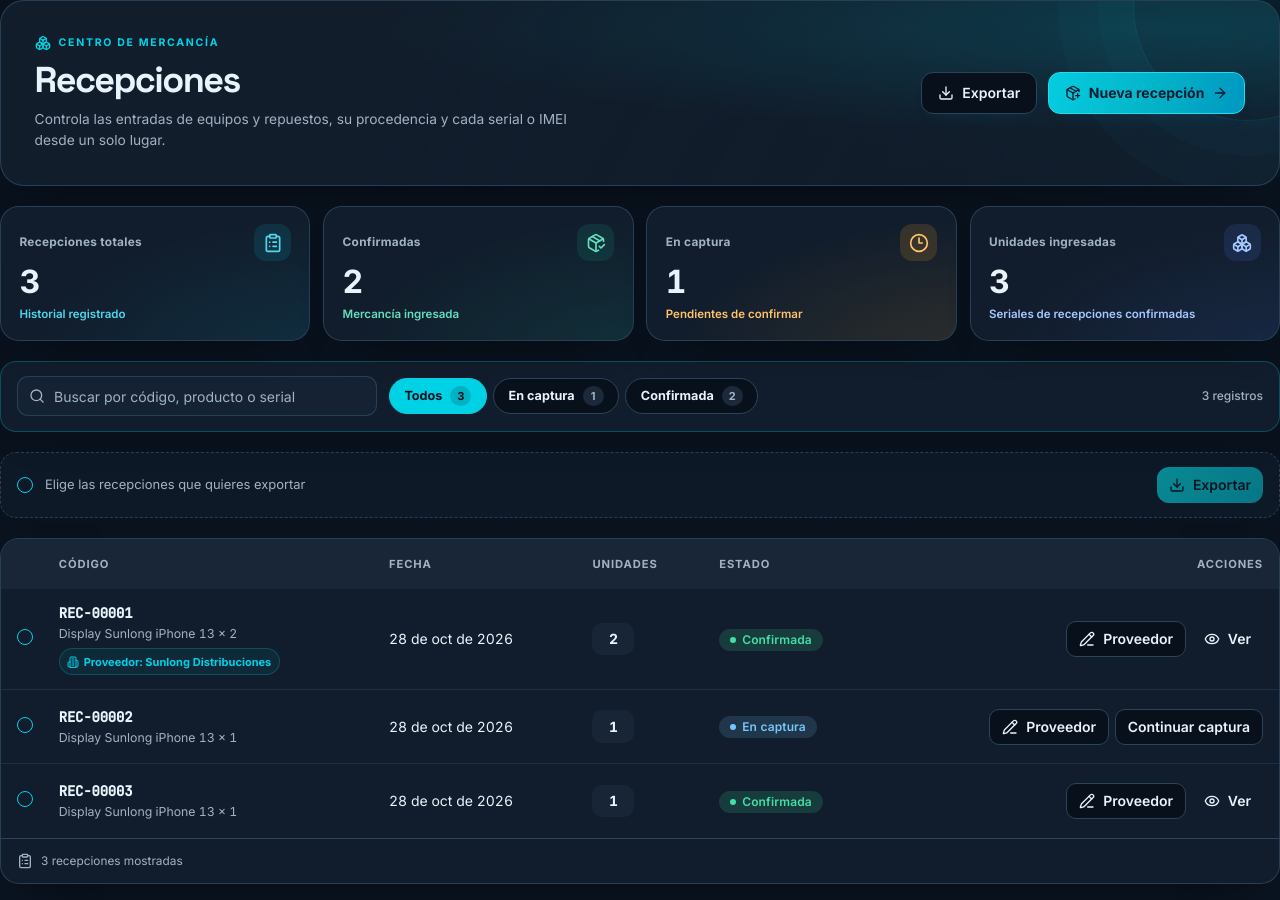
Recepciones premium · datos y acciones preservadas › conserva selección múltiple, diálogo de exportar y proveedor
Click the checkbox named "Elegir todas las visibles": (25, 485) [17,477,33,493]
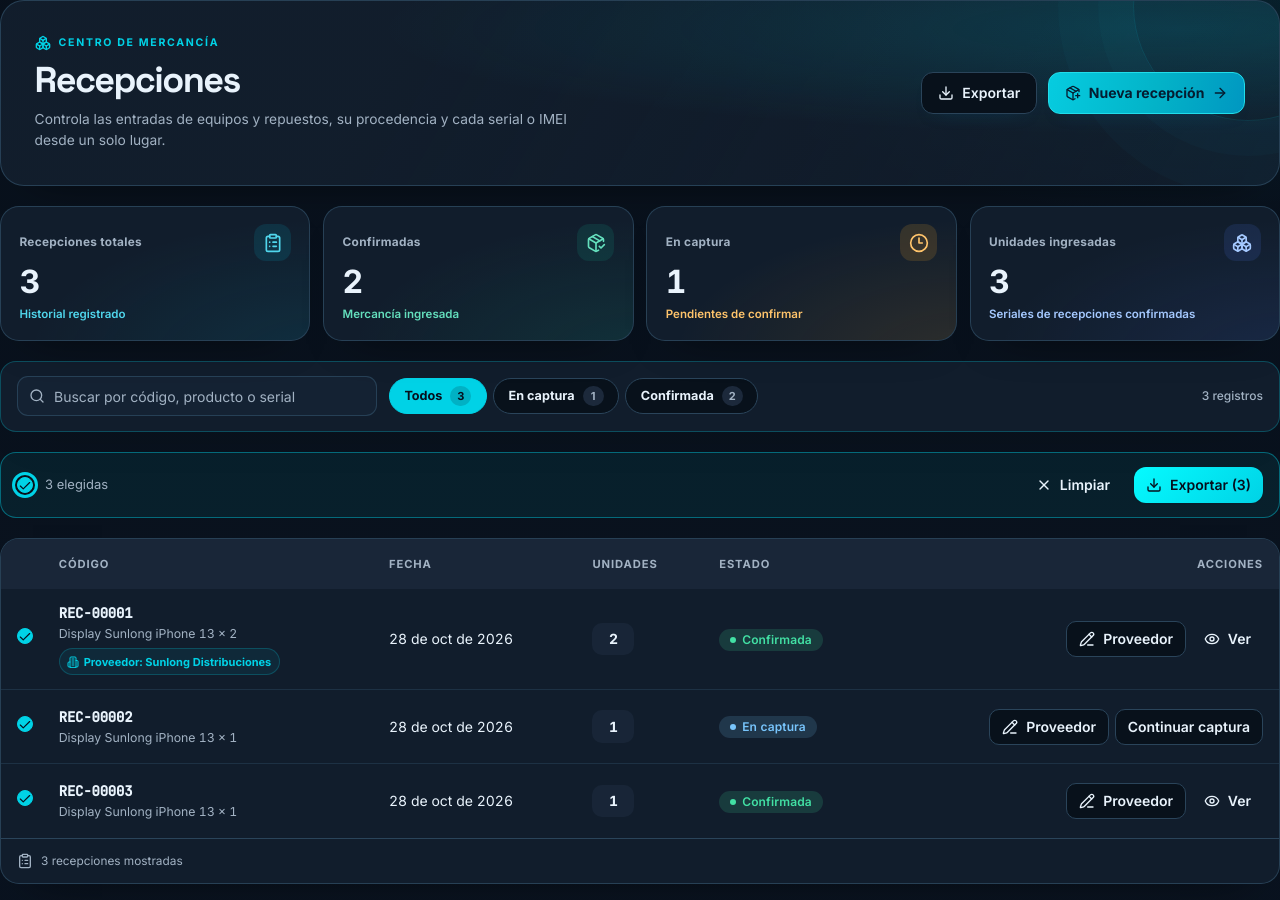
Check: the text "Proveedor: Sunlong Distribuciones" is shown, box [59,648,280,675]
Check: the button "Exportar (3)" is enabled
Click the button "Exportar (3)": (1198, 485) [1134,467,1263,503]
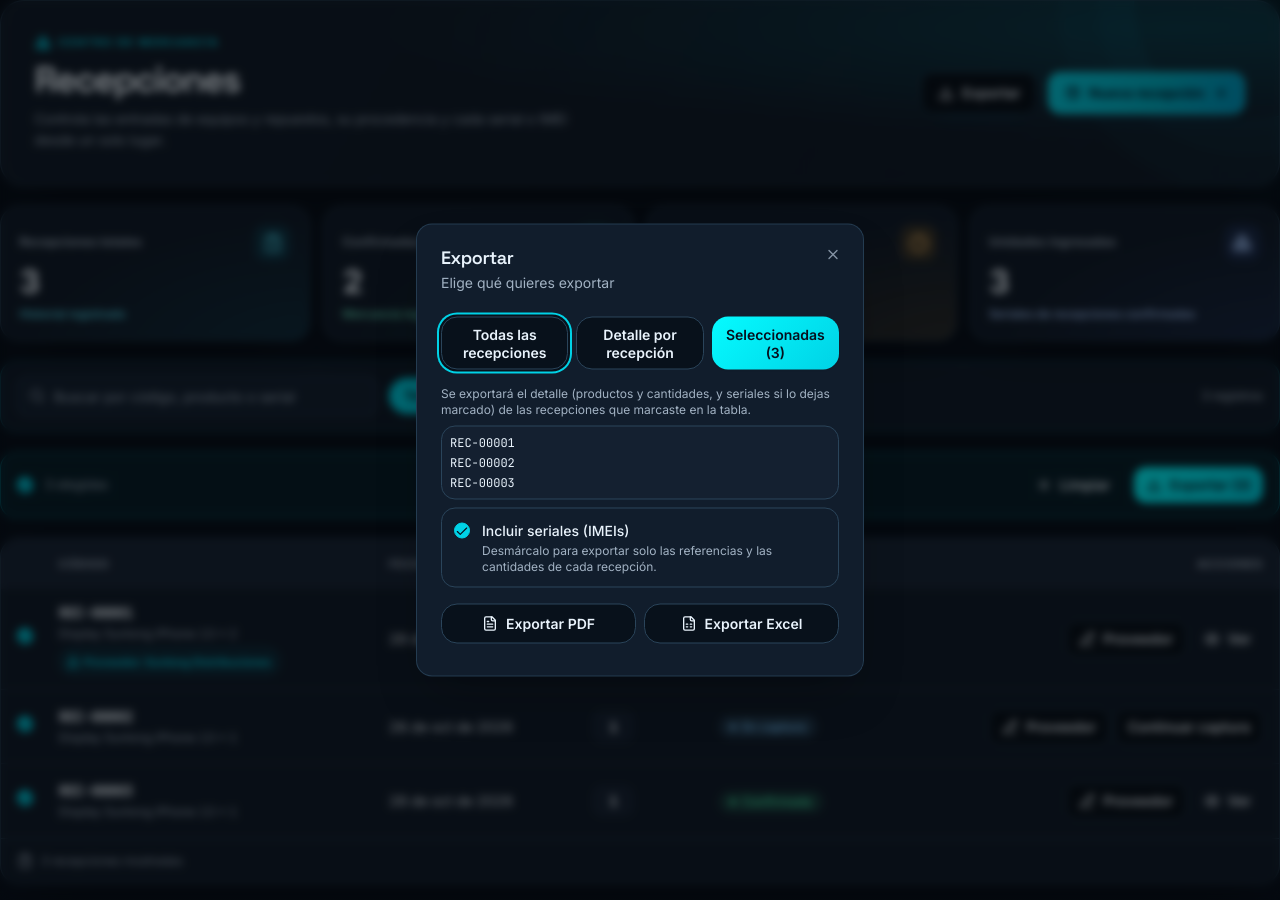
Check: the dialog is shown, box [416,224,864,676]
